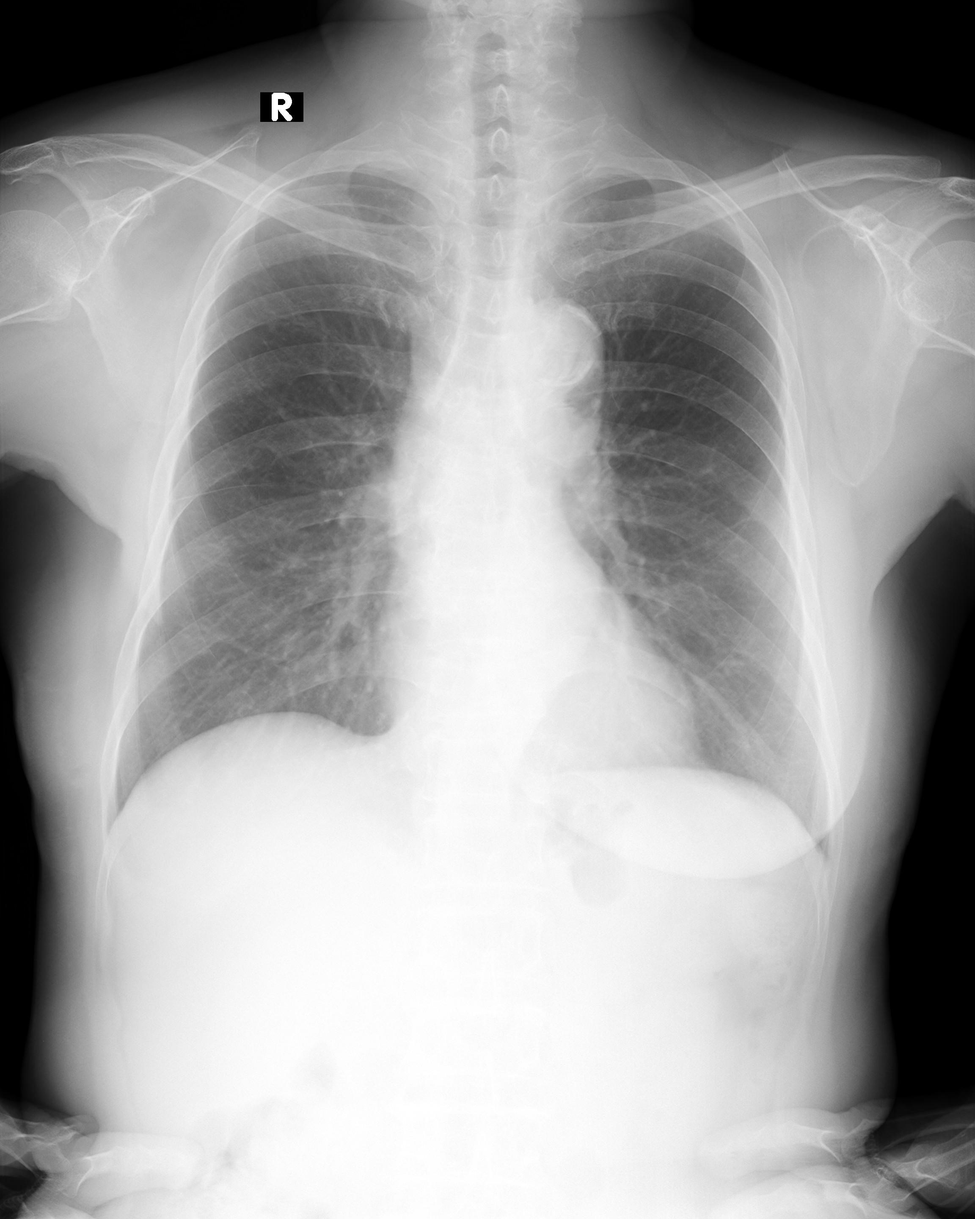Aortic enlargement: (498, 295, 606, 413)
